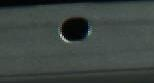holes: (57, 15, 92, 43)
